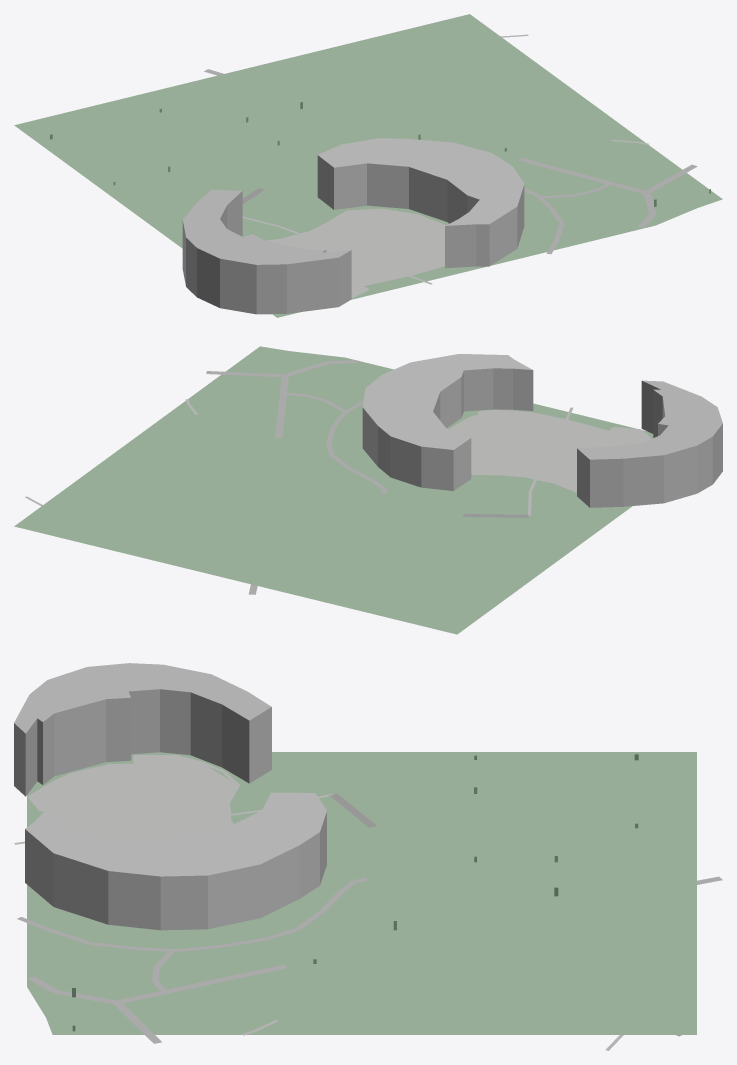
3 views of the same model, one above another, from view 1: azimuth 30°, elevation 25°; view 2: azimuth 150°, elevation 25°; view 3: azimuth 270°, elevation 25° (orthographic). The views are drawn at different scales.
Size of the model in its own units: 570 by 54.22 by 529.
